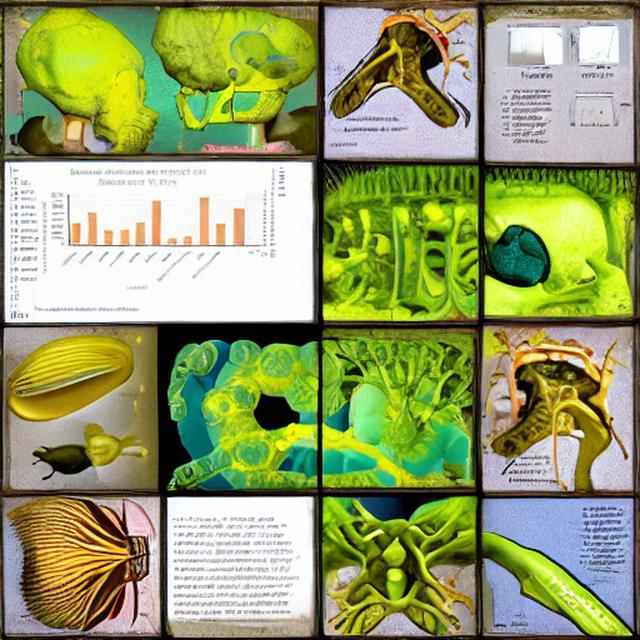Graph: (39, 164, 232, 294), (567, 21, 630, 68)
